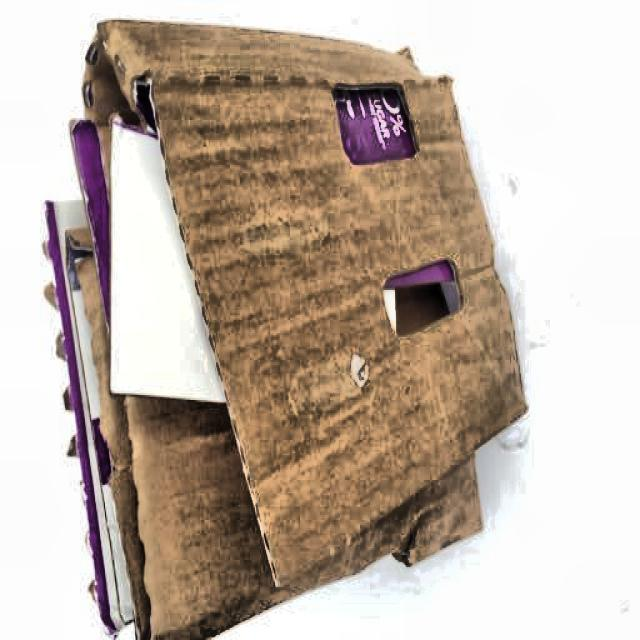cardboard: (38, 18, 520, 601)
